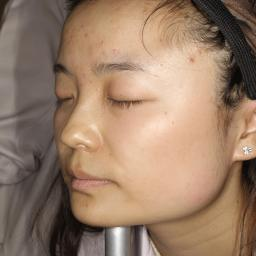ance: (62, 14, 86, 46), (104, 42, 126, 60), (182, 52, 202, 68), (80, 25, 96, 43), (92, 85, 100, 95)
